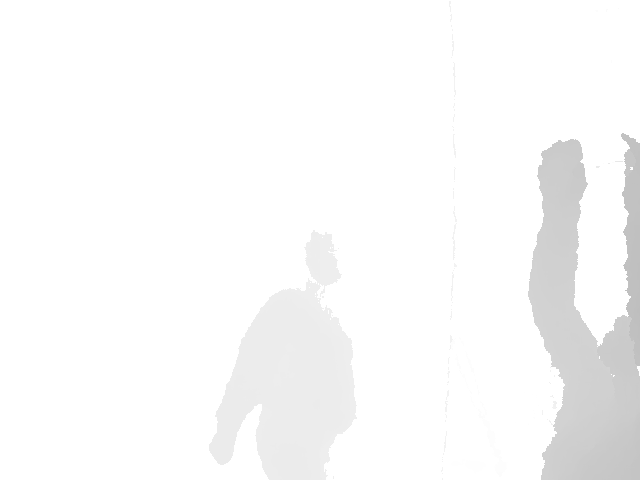hand: (536, 138, 588, 210)
head: (598, 306, 640, 376), (303, 228, 343, 288)
person: (526, 133, 640, 480), (208, 229, 358, 480)
